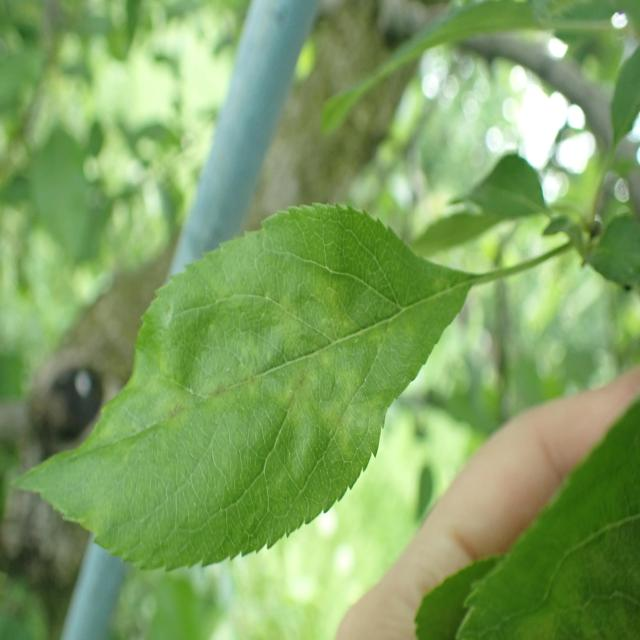scab: (107, 253, 465, 506)
